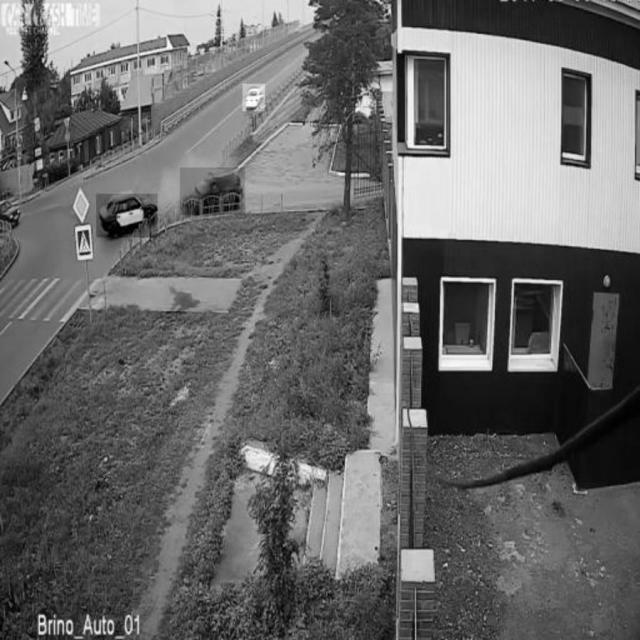vehicle: (180, 168, 246, 215), (96, 194, 157, 238), (1, 197, 23, 227), (242, 84, 266, 111)
